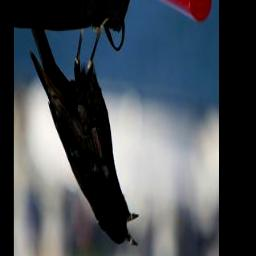Crow: (28, 11, 140, 252)
